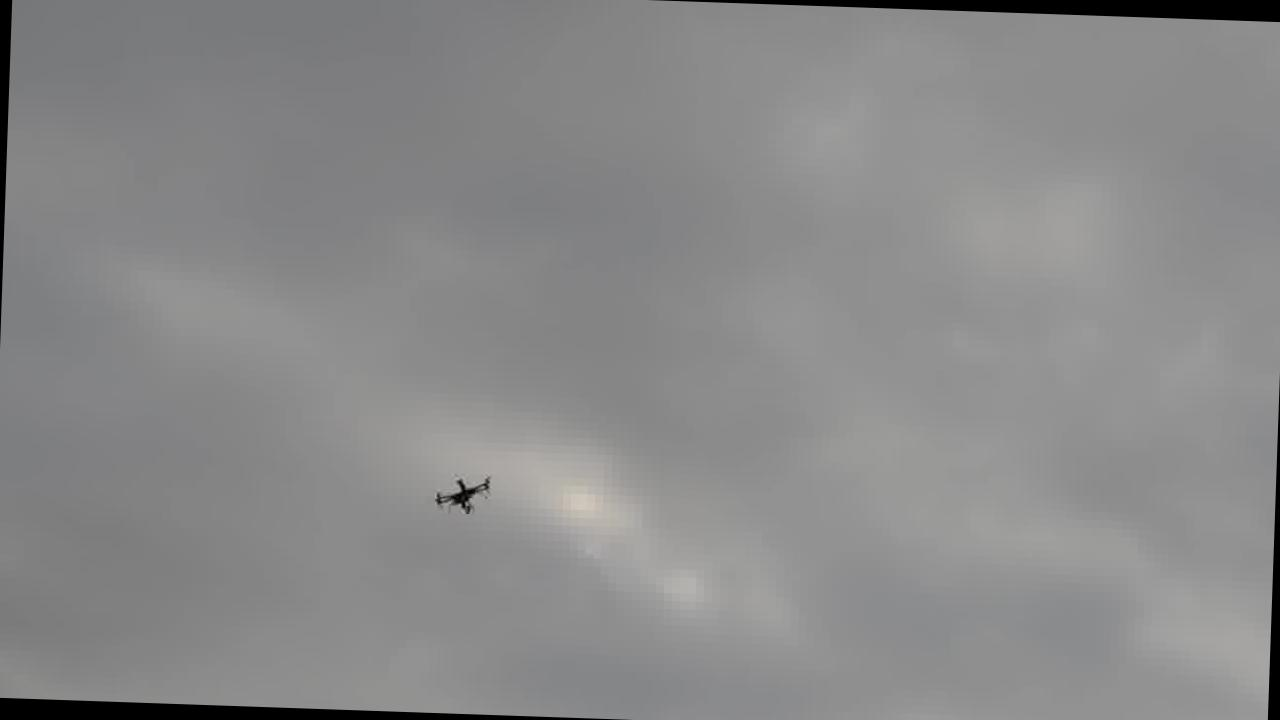drone: (430, 470, 493, 516)
